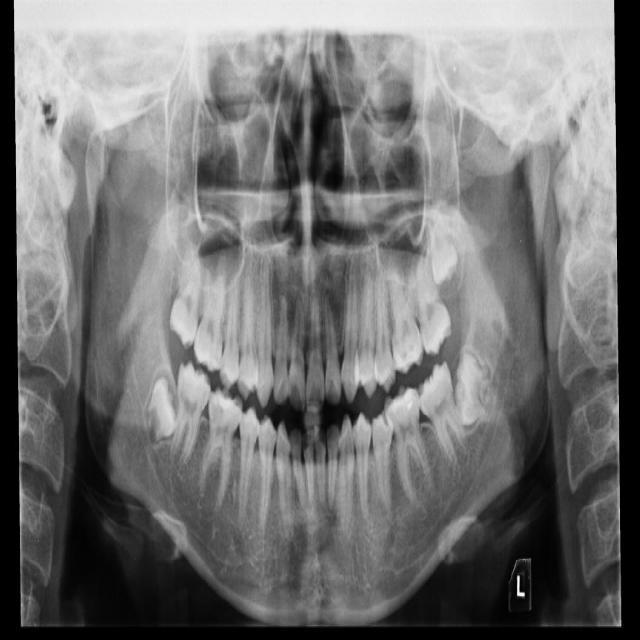52: (377, 380, 428, 435), (399, 344, 415, 361), (391, 331, 400, 345), (435, 297, 445, 308), (392, 430, 400, 442)
73: (567, 540, 570, 560)
BioHorizons Implant: (410, 246, 455, 358)
BioLife Implant: (426, 205, 461, 285)
Biomet 3i Implant: (453, 352, 493, 426)
Blue Sky Bio Implant: (409, 360, 472, 471)
Caries: (168, 239, 205, 351)
Implant: (167, 359, 215, 472)
Keystone Dental Implant: (141, 375, 179, 444)
